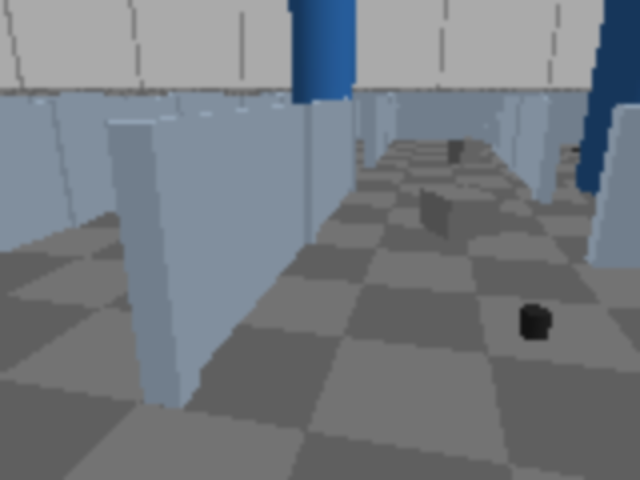obstacle: (447, 138, 483, 166)
person: (575, 0, 638, 201)
puck: (520, 305, 550, 341)
